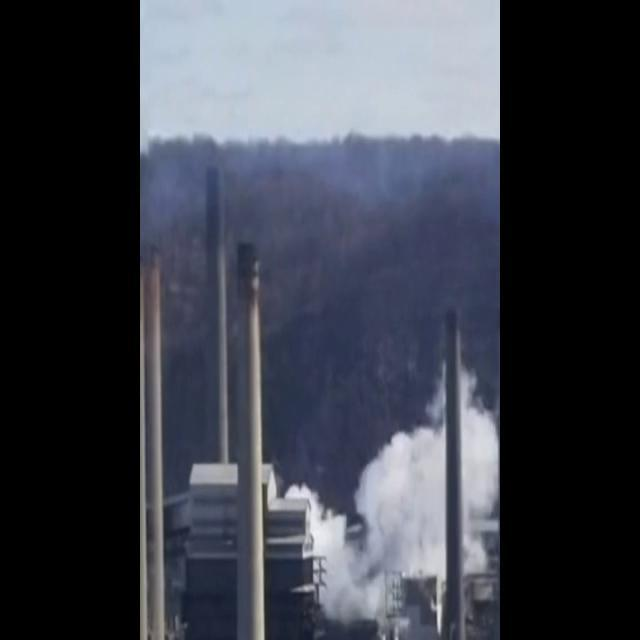Smoke: (282, 359, 500, 634)
